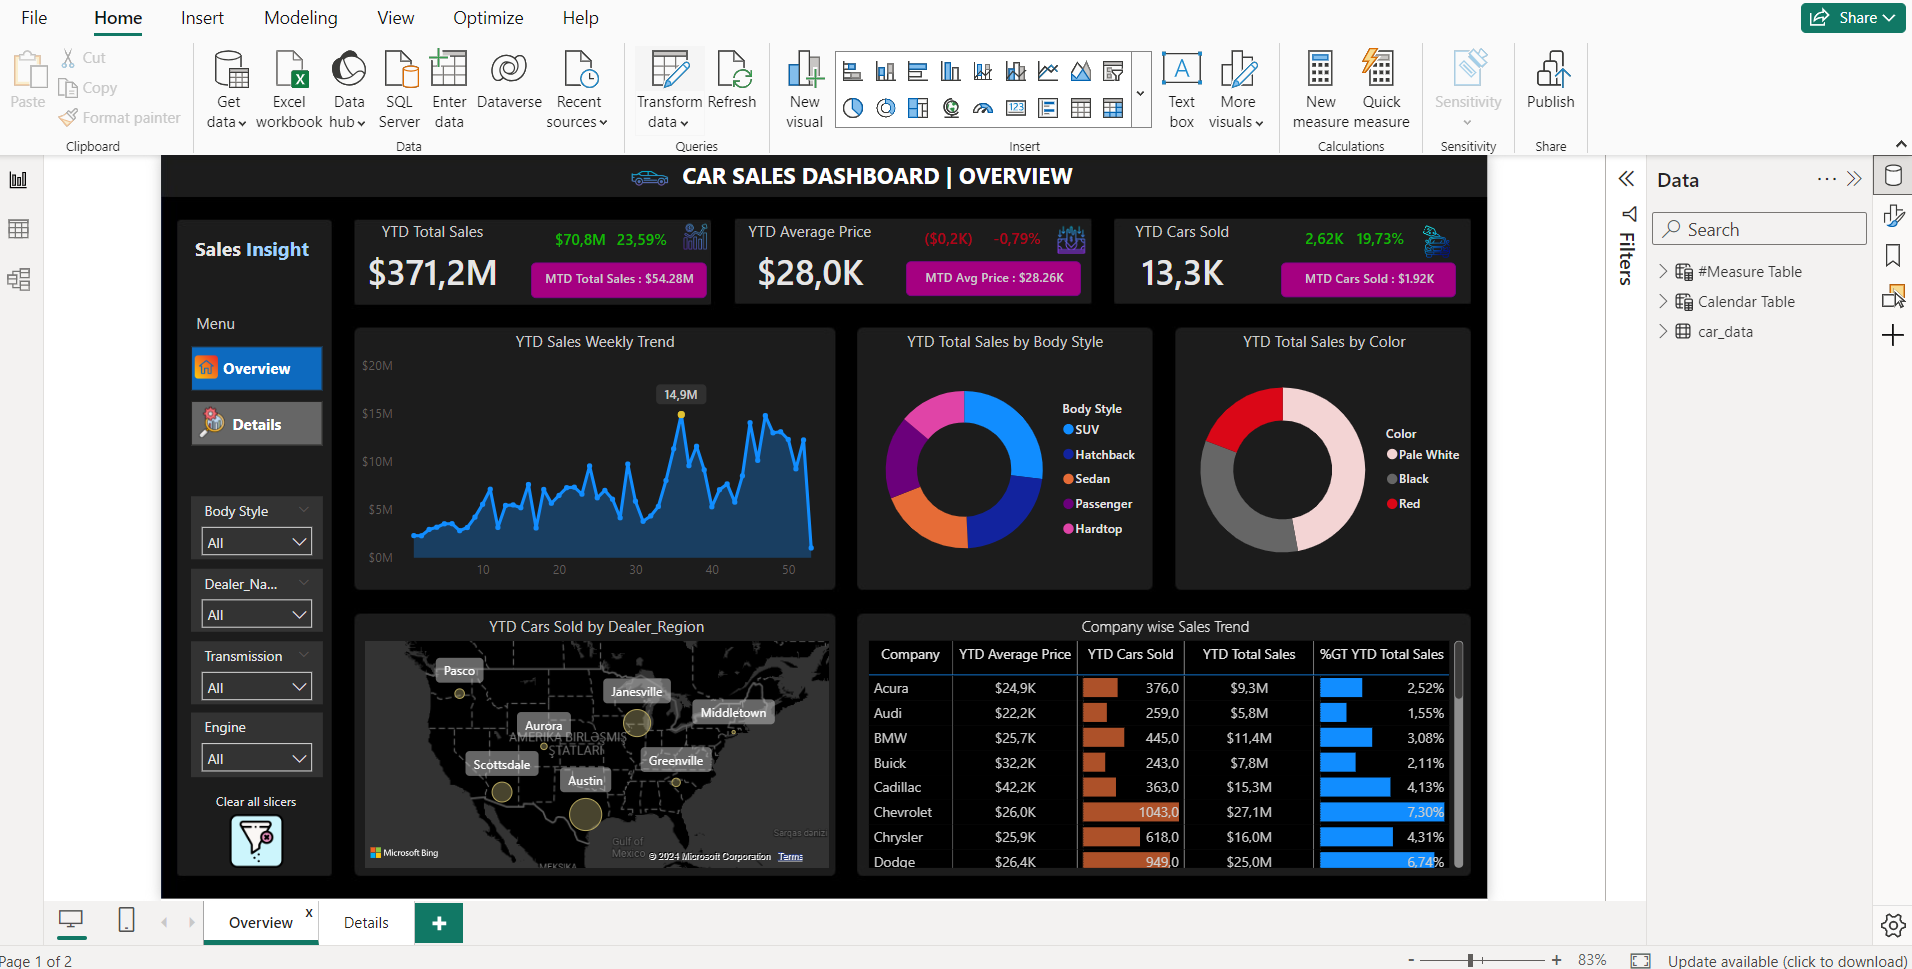

The dashboard page shown, as its layout file describes it:
{"tool":"powerbi","page":{"name":"Overview","canvas":[1280,720],"ordinal":0},"visuals":[{"type":"card","title":"YTD Total Sales","fields":{"Values":["#Measure Table.YTD Total Sales"]},"box":[177.8,62.6,169.2,81.1],"z":0},{"type":"card","title":"YTD Total Sales","fields":{"Values":["#Measure Table.Sales Difference"]},"box":[369.1,62.3,71.9,41.9],"z":1000},{"type":"card","title":"YTD Total Sales","fields":{"Values":["#Measure Table.YOY Sales Growth"]},"box":[430.3,62.3,67.1,41.9],"z":2000},{"type":"card","fields":{"Values":["#Measure Table.MTD KPI"]},"box":[357,103.8,169.2,34.1],"z":3000},{"type":"card","title":"YTD Average Price","fields":{"Values":["#Measure Table.YTD Average Price"]},"box":[541.9,62.6,169.2,81.1],"z":4000},{"type":"card","title":"YTD Total Sales","fields":{"Values":["#Measure Table.Average Price Difference"]},"box":[726.3,61.1,67.1,41.9],"z":5000},{"type":"card","title":"YTD Total Sales","fields":{"Values":["#Measure Table.YOY Avg Price Growth"]},"box":[793.4,62.3,64.7,40.7],"z":6000},{"type":"card","fields":{"Values":["#Measure Table.MTD Avg Price KPI"]},"box":[719.1,103.1,169,33.6],"z":7000},{"type":"card","title":"YTD Cars Sold","fields":{"Values":["#Measure Table.YTD Cars Sold"]},"box":[916.9,62.3,137.8,80.3],"z":8000},{"type":"card","title":"YTD Total Sales","fields":{"Values":["#Measure Table.Cars Sold Difference"]},"box":[1091.8,61.1,62.3,41.9],"z":9000},{"type":"card","title":"YTD Total Sales","fields":{"Values":["#Measure Table.YOY Cars Sold Growth"]},"box":[1144.6,61.1,64.7,41.9],"z":10000},{"type":"card","fields":{"Values":["#Measure Table.MTD Cars Sold KPI"]},"box":[1081,104.3,169,33.6],"z":11000},{"type":"areaChart","title":"YTD Sales Weekly Trend","fields":{"Category":["Calendar Table.Weeknum"],"Y":["car_data.Price ($)","#Measure Table.MAX Point"]},"box":[188,169,461.8,249.9],"z":12000},{"type":"donutChart","fields":{"Category":["car_data.Body Style"],"Y":["#Measure Table.YTD Total Sales"]},"box":[676,169,278.5,249.9],"z":13000},{"type":"donutChart","fields":{"Y":["#Measure Table.YTD Total Sales"],"Category":["car_data.Color"]},"box":[978,169,288.8,250.5],"z":14000},{"type":"map","fields":{"Category":["car_data.Dealer_Region"],"Size":["#Measure Table.YTD Cars Sold"]},"box":[191.2,443.8,457.5,248.8],"z":15000},{"type":"tableEx","title":"Company wise Sales Trend","fields":{"Values":["car_data.Company","#Measure Table.YTD Average Price","#Measure Table.YTD Cars Sold","#Measure Table.YTD Total Sales1","#Measure Table.YTD Total Sales"]},"box":[676.2,443.8,585,248.8],"z":16000},{"type":"textbox","box":[497.5,0,398.8,45],"z":17000},{"type":"slicer","fields":{"Values":["car_data.Body Style"]},"box":[28.8,329.6,127,61.1],"z":18000},{"type":"slicer","fields":{"Values":["car_data.Dealer_Name"]},"box":[28.8,399.1,127,61.1],"z":19000},{"type":"slicer","fields":{"Values":["car_data.Transmission"]},"box":[28.8,468.6,127,61.1],"z":20000},{"type":"slicer","fields":{"Values":["car_data.Engine"]},"box":[28.8,538.1,127,62.3],"z":21000},{"type":"pageNavigator","box":[28.6,184.5,127.3,97.6],"z":22000},{"type":"image","box":[27.4,184.5,32.1,39.3],"z":23000},{"type":"image","box":[407.5,0,127.5,45],"z":24000},{"type":"image","box":[28.8,233.8,40,48.8],"z":25000},{"type":"textbox","box":[27.6,71.9,128.2,47.9],"z":26000},{"type":"textbox","box":[28.8,147.4,63.5,37.2],"z":27000},{"type":"image","title":"Clear all slicers","box":[27.6,614.8,128.2,77.9],"z":28000},{"type":"image","box":[497.4,61.1,37.2,34.8],"z":29000},{"type":"image","box":[859.3,62.3,37.2,38.4],"z":30000},{"type":"image","box":[1200.9,62.3,59.9,41.9],"z":31000}]}

Visuals, with their boxes on the page's 1280x720 design canvas (x1, y1, x2, y2). These are canvas units, not pixel positions in the 1912x969 screenshot, which may show the page scaled, cropped or inside an application window:
"YTD Total Sales" card: <region>178, 63, 347, 144</region>
"YTD Total Sales" card: <region>369, 62, 441, 104</region>
"YTD Total Sales" card: <region>430, 62, 497, 104</region>
card - #Measure Table.MTD KPI: <region>357, 104, 526, 138</region>
"YTD Average Price" card: <region>542, 63, 711, 144</region>
"YTD Total Sales" card: <region>726, 61, 793, 103</region>
"YTD Total Sales" card: <region>793, 62, 858, 103</region>
card - #Measure Table.MTD Avg Price KPI: <region>719, 103, 888, 137</region>
"YTD Cars Sold" card: <region>917, 62, 1055, 143</region>
"YTD Total Sales" card: <region>1092, 61, 1154, 103</region>
"YTD Total Sales" card: <region>1145, 61, 1209, 103</region>
card - #Measure Table.MTD Cars Sold KPI: <region>1081, 104, 1250, 138</region>
"YTD Sales Weekly Trend" areaChart: <region>188, 169, 650, 419</region>
donutChart - car_data.Body Style x #Measure Table.YTD Total Sales: <region>676, 169, 954, 419</region>
donutChart - #Measure Table.YTD Total Sales x car_data.Color: <region>978, 169, 1267, 420</region>
map - car_data.Dealer_Region x #Measure Table.YTD Cars Sold: <region>191, 444, 649, 693</region>
"Company wise Sales Trend" tableEx: <region>676, 444, 1261, 693</region>
textbox: <region>498, 0, 896, 45</region>
slicer - car_data.Body Style: <region>29, 330, 156, 391</region>
slicer - car_data.Dealer_Name: <region>29, 399, 156, 460</region>
slicer - car_data.Transmission: <region>29, 469, 156, 530</region>
slicer - car_data.Engine: <region>29, 538, 156, 600</region>
pageNavigator: <region>29, 184, 156, 282</region>
image: <region>27, 184, 60, 224</region>
image: <region>408, 0, 535, 45</region>
image: <region>29, 234, 69, 283</region>
textbox: <region>28, 72, 156, 120</region>
textbox: <region>29, 147, 92, 185</region>
"Clear all slicers" image: <region>28, 615, 156, 693</region>
image: <region>497, 61, 535, 96</region>
image: <region>859, 62, 896, 101</region>
image: <region>1201, 62, 1261, 104</region>
